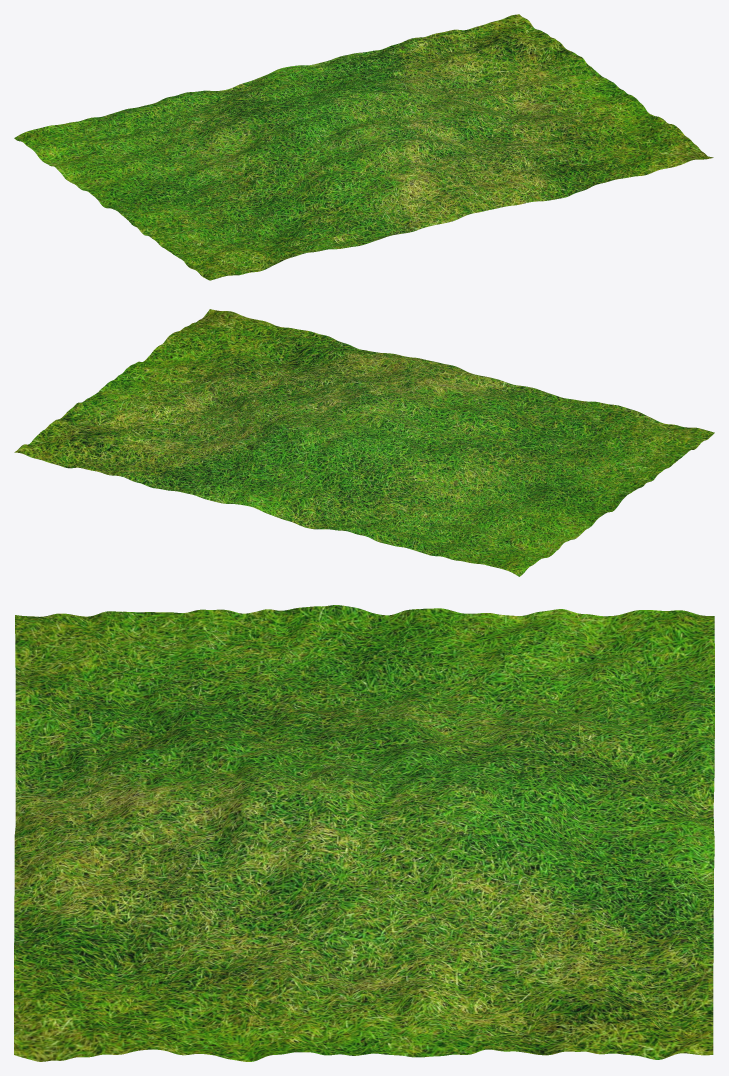
File: GroundRyan.fbx
3 renders of one model, top to bottom at view 1: azimuth 30°, elevation 25°; view 2: azimuth 150°, elevation 25°; view 3: azimuth 270°, elevation 25°, orthographic. The views are drawn at different scales.
Visible parts, largest first — view 1: Plane; view 2: Plane; view 3: Plane.
Part boxes in pixels (<box>): Plane: <box>14,14,713,280</box>; Plane: <box>14,309,714,576</box>; Plane: <box>14,605,714,1061</box>.
Size of the model in its own units: 299 by 18.69 by 200.
